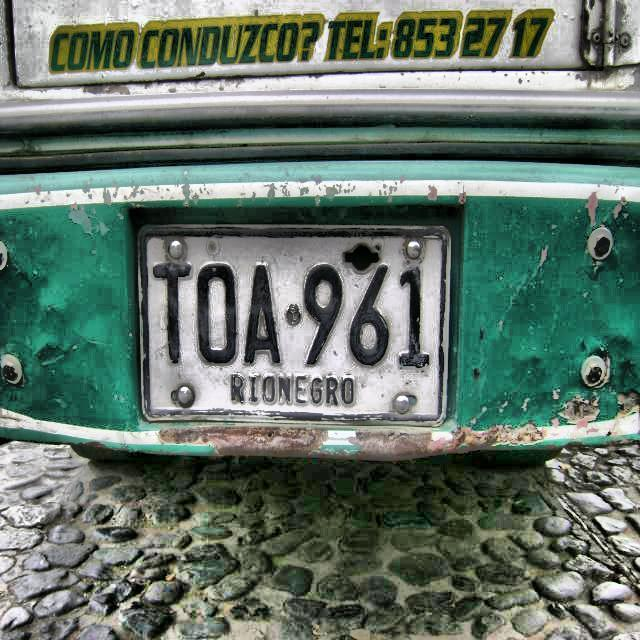plate: (144, 232, 444, 421)
